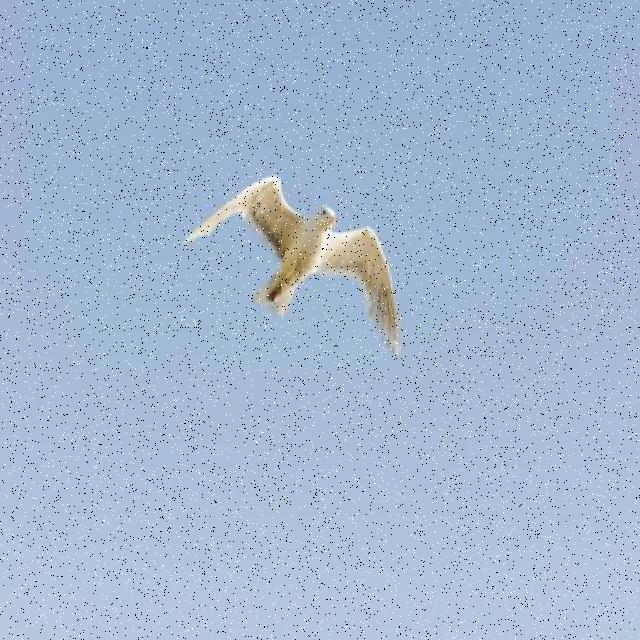bird: (183, 177, 400, 356)
